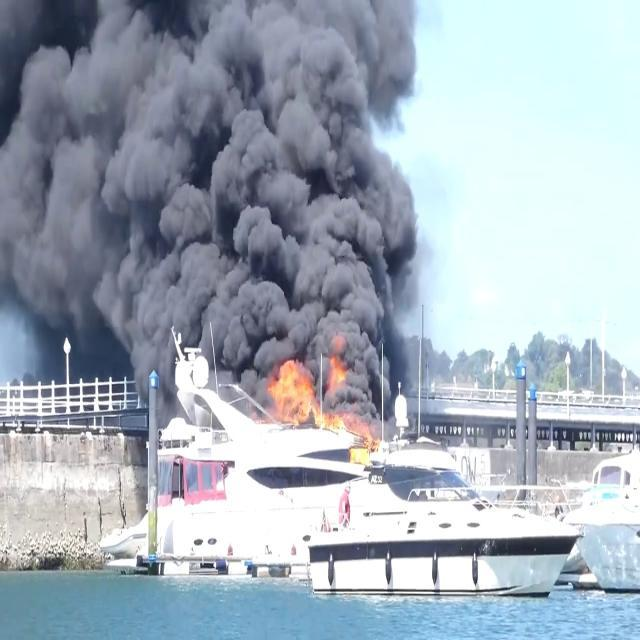Fire: (268, 356, 349, 434)
Smoke: (0, 1, 443, 374)
